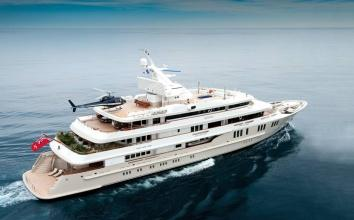airplane: (67, 88, 129, 113)
yacht: (20, 48, 308, 202)
